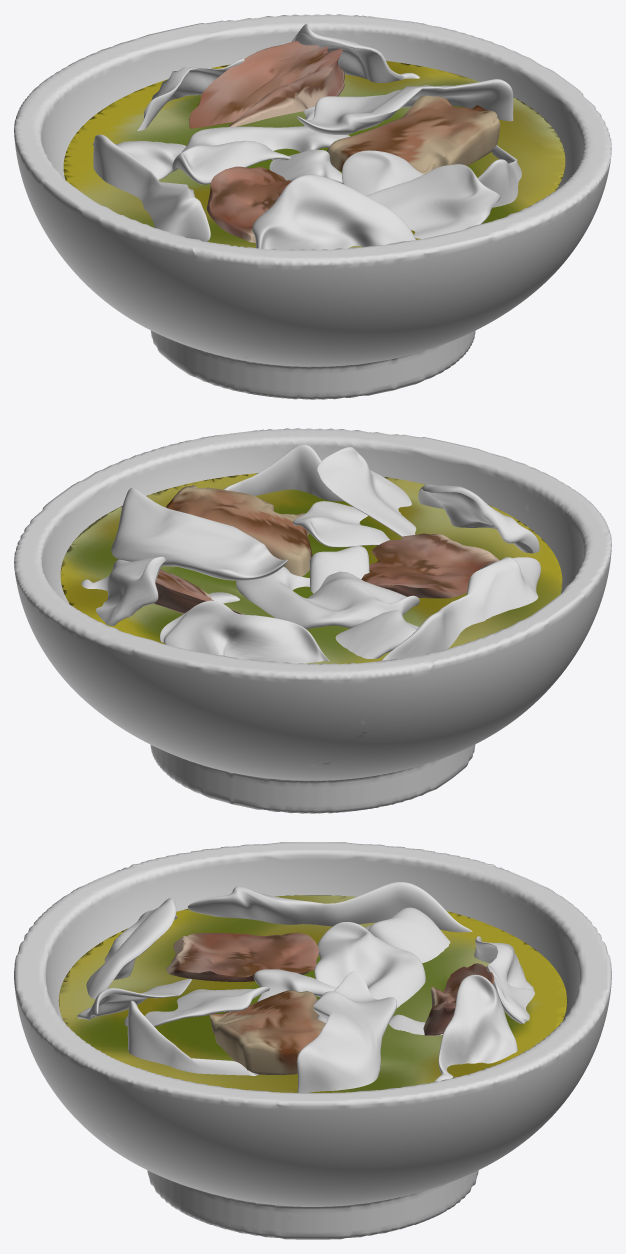
The model's file is seaweedSoup.fbx.
3 views of the same model, one above another, from view 1: azimuth 30°, elevation 25°; view 2: azimuth 150°, elevation 25°; view 3: azimuth 270°, elevation 25° (orthographic). The views are drawn at different scales.
Parts seen in each view (by area): view 1: 구체 (×6), 원통, 구체 5, 상자, 구체 4, 구체 2, 원통 17, 구체 1, 구체 7, 구체 3, 구체 9; view 2: 구체 (×6), 구체 2, 원통 17, 상자, 구체 4, 구체 5, 구체 7, 구체 3, 구체 1, 구체 9, 원통; view 3: 구체 (×6), 구체 2, 상자, 원통 17, 구체 7, 구체 5, 구체 3, 구체 1, 원통, 구체 4, 구체 9.
Boxes of the visible parts, bbox=[...] form: 구체 (×6): bbox=[14, 14, 611, 399]; 원통: bbox=[189, 40, 344, 128]; 구체 5: bbox=[252, 174, 415, 250]; 상자: bbox=[327, 95, 500, 174]; 구체 4: bbox=[367, 164, 500, 238]; 구체 2: bbox=[296, 79, 513, 134]; 원통 17: bbox=[207, 166, 292, 242]; 구체 1: bbox=[342, 150, 423, 195]; 구체 7: bbox=[291, 23, 419, 82]; 구체 3: bbox=[477, 145, 521, 207]; 구체 9: bbox=[269, 149, 342, 183]; 구체 (×6): bbox=[14, 428, 611, 813]; 구체 2: bbox=[111, 487, 287, 580]; 원통 17: bbox=[361, 533, 498, 598]; 상자: bbox=[166, 485, 312, 576]; 구체 4: bbox=[317, 447, 416, 536]; 구체 5: bbox=[418, 484, 539, 553]; 구체 7: bbox=[69, 556, 165, 625]; 구체 3: bbox=[223, 444, 343, 501]; 구체 1: bbox=[293, 501, 389, 547]; 구체 9: bbox=[309, 546, 369, 593]; 원통: bbox=[154, 569, 246, 614]; 구체 (×6): bbox=[14, 842, 611, 1239]; 구체 2: bbox=[296, 971, 396, 1092]; 상자: bbox=[209, 990, 325, 1074]; 원통 17: bbox=[166, 932, 319, 981]; 구체 7: bbox=[435, 974, 517, 1081]; 구체 5: bbox=[86, 898, 177, 999]; 구체 3: bbox=[124, 1000, 258, 1075]; 구체 1: bbox=[145, 987, 269, 1026]; 원통: bbox=[423, 963, 494, 1035]; 구체 4: bbox=[77, 978, 191, 1020]; 구체 9: bbox=[253, 969, 336, 1001].
Bounding box in the file's own units: 0.8381 × 0.3611 × 0.8383.
